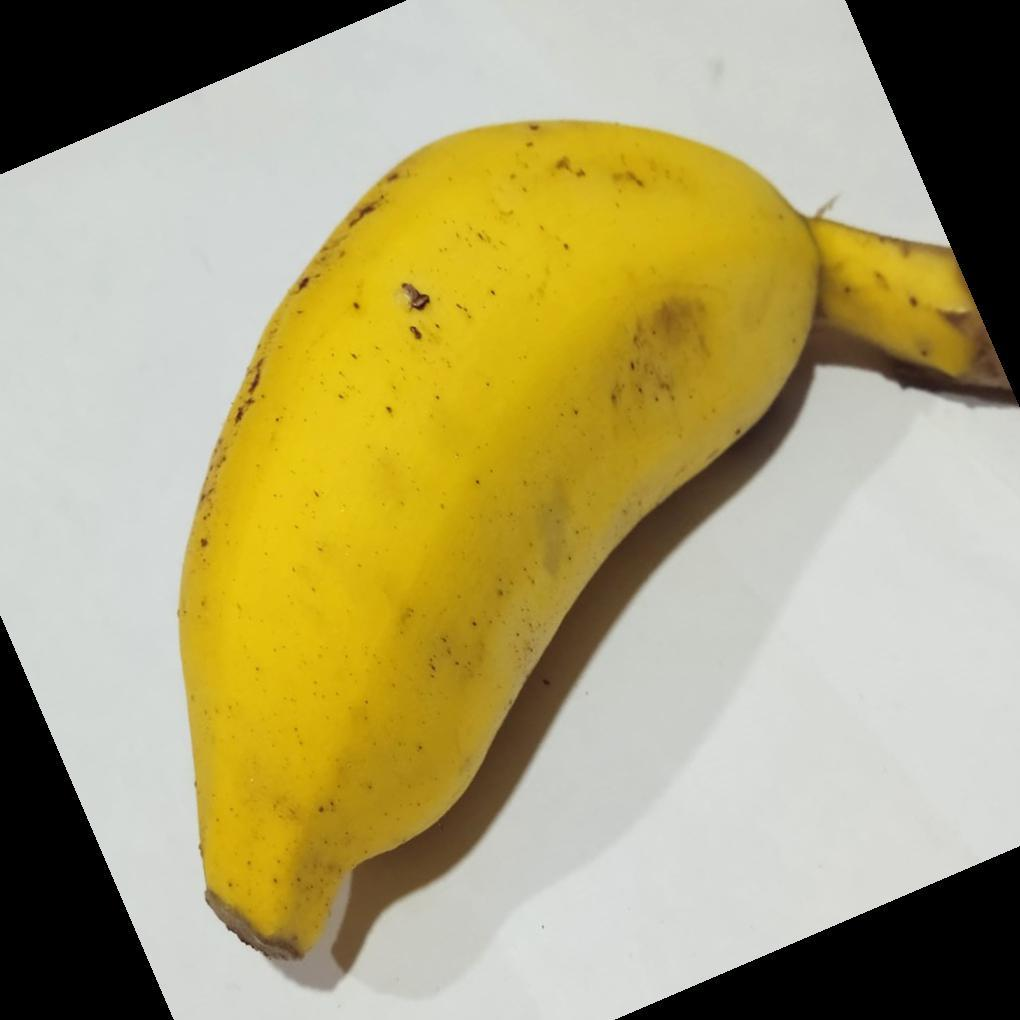Banana Ripe: (178, 116, 973, 966)
